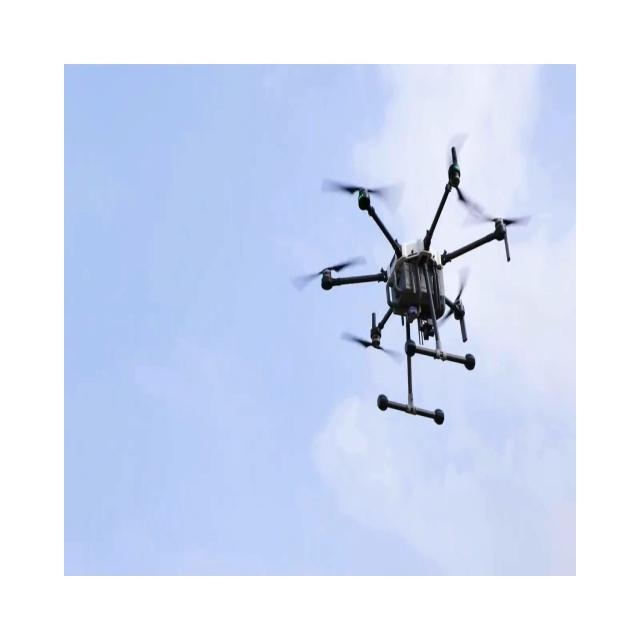drone: (290, 142, 532, 426)
